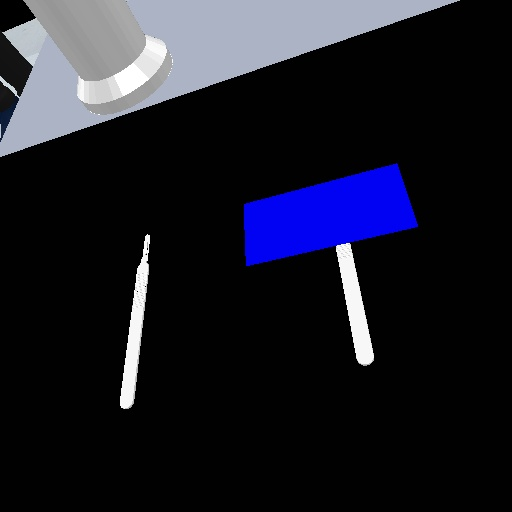bisturi: (112, 228, 153, 413), (334, 238, 377, 370)
